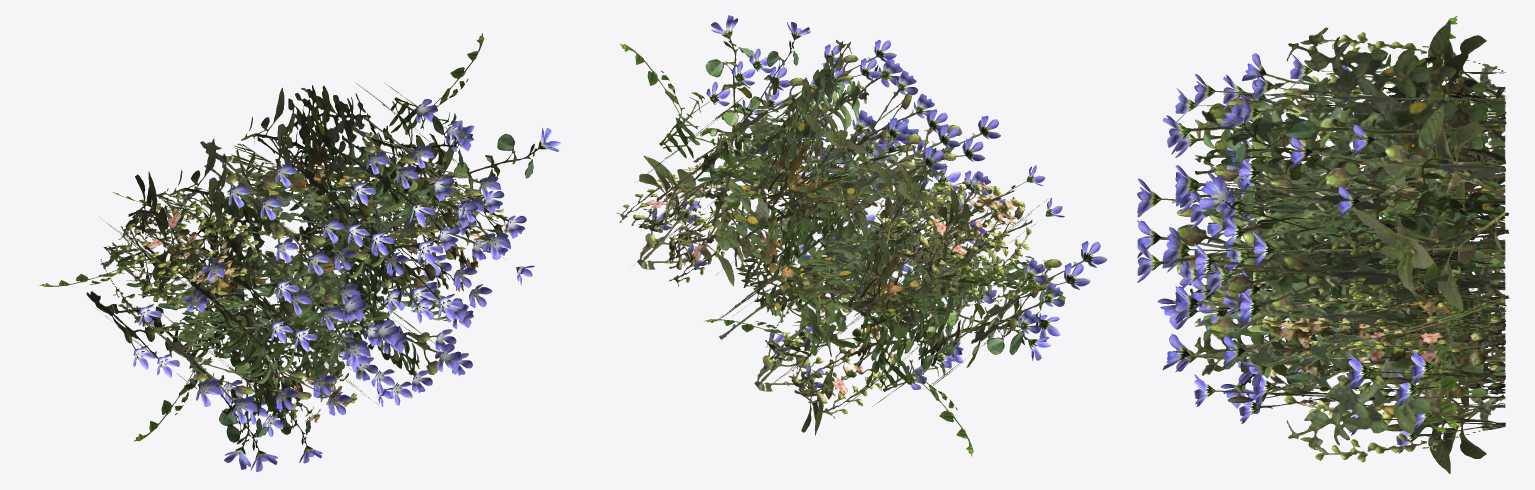
The model's file is foliage_gardenflowers_blue_group_LOD0.obj.
The picture shows the model from 3 angles, left to right: view 1: azimuth 30°, elevation 25°; view 2: azimuth 150°, elevation 25°; view 3: azimuth 270°, elevation 25°; orthographic projection. The views are drawn at different scales.
Visible parts, largest first — view 1: mtl_gardenflowers; view 2: mtl_gardenflowers; view 3: mtl_gardenflowers.
Part boxes in pixels (box(x1,y1,x2,y2)): mtl_gardenflowers: box(39, 33, 561, 471); mtl_gardenflowers: box(616, 15, 1106, 456); mtl_gardenflowers: box(1137, 16, 1509, 473).
Bounding box in the file's own units: 117 × 89.18 × 66.35.
